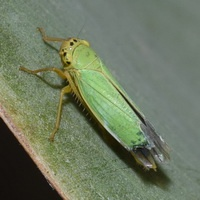insect: (19, 27, 169, 170)
